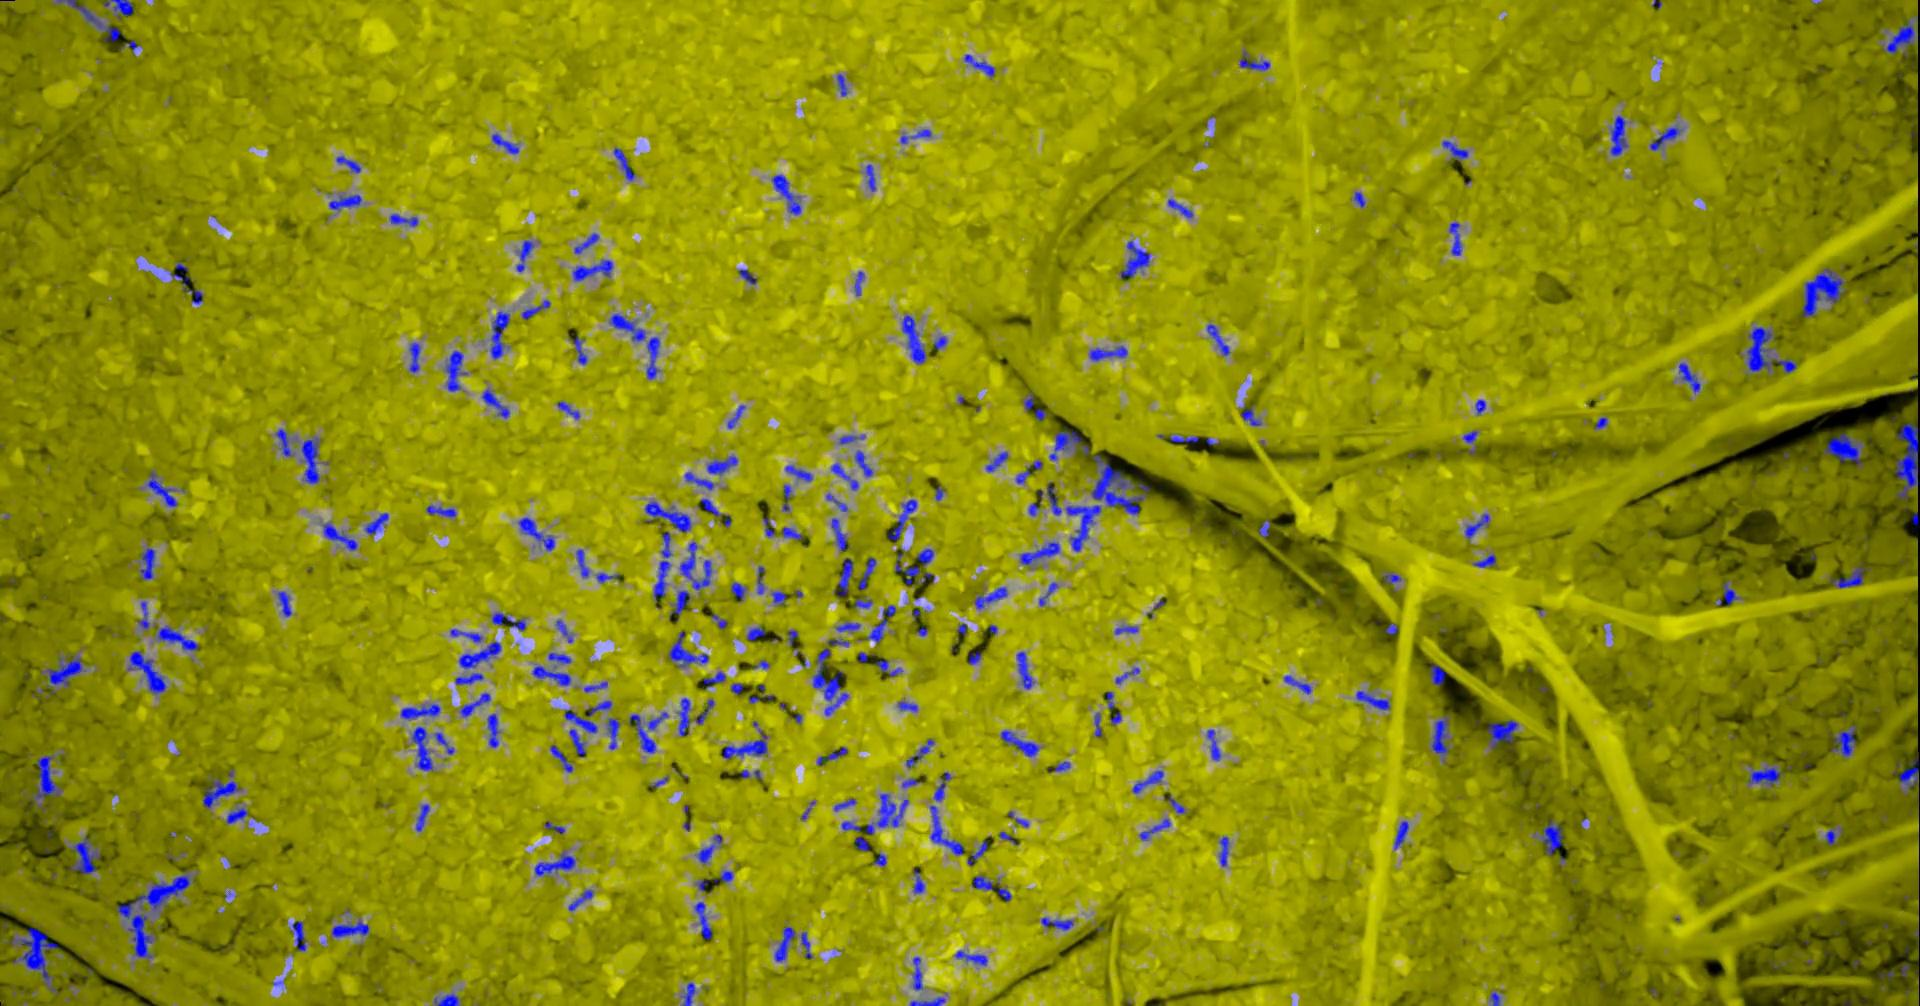ant: (8, 926, 57, 993), (811, 638, 848, 715), (841, 793, 908, 835), (57, 0, 119, 41), (1746, 326, 1796, 372), (1801, 268, 1844, 318), (127, 650, 166, 694), (1065, 504, 1100, 551), (930, 805, 963, 854), (894, 547, 935, 586), (679, 541, 711, 589), (202, 768, 241, 807), (564, 700, 611, 732), (644, 500, 690, 532), (668, 631, 709, 667), (169, 260, 202, 304), (1049, 426, 1088, 460), (721, 729, 767, 758), (1823, 433, 1862, 467), (46, 654, 83, 688), (653, 531, 670, 601), (32, 754, 58, 800), (69, 835, 99, 874), (518, 517, 554, 550), (1882, 20, 1914, 57), (902, 315, 926, 363), (865, 605, 895, 643), (771, 174, 800, 213), (1120, 240, 1149, 279), (888, 499, 916, 540), (458, 641, 500, 668), (156, 625, 198, 650), (1898, 757, 1919, 809), (629, 714, 655, 753), (146, 471, 177, 506), (1029, 484, 1062, 514), (971, 875, 1011, 901), (610, 312, 645, 340), (1829, 563, 1869, 587), (1001, 730, 1037, 756), (1018, 541, 1059, 564), (1487, 719, 1517, 749), (535, 852, 575, 875), (490, 311, 509, 359), (323, 523, 357, 550), (700, 498, 731, 526), (444, 351, 466, 391), (411, 727, 432, 770), (905, 738, 935, 767), (301, 436, 319, 483), (1431, 713, 1449, 760), (571, 259, 612, 279), (481, 387, 509, 417), (1542, 819, 1564, 854), (696, 833, 723, 862), (1650, 124, 1680, 150), (1831, 725, 1857, 756), (830, 464, 858, 490), (460, 692, 490, 716), (532, 666, 570, 685), (1131, 770, 1163, 793), (775, 926, 795, 962), (974, 587, 1007, 608), (1206, 324, 1229, 354), (1677, 362, 1700, 392), (1355, 690, 1390, 709), (613, 147, 634, 180), (964, 55, 994, 76), (1139, 818, 1170, 840), (834, 558, 852, 594), (331, 920, 368, 937), (1747, 767, 1782, 786), (1610, 116, 1627, 155), (1464, 513, 1490, 539), (1015, 460, 1043, 483), (549, 744, 571, 772), (830, 518, 850, 551), (695, 901, 711, 939), (1016, 652, 1032, 688), (400, 702, 439, 718), (669, 589, 690, 619), (491, 612, 524, 630), (706, 455, 737, 474), (817, 746, 847, 765), (521, 298, 549, 319), (103, 0, 132, 19), (1239, 51, 1269, 70), (1716, 580, 1738, 605), (858, 556, 875, 589), (516, 240, 533, 271), (646, 337, 659, 379), (1090, 345, 1128, 359), (276, 428, 295, 456), (1283, 674, 1310, 694), (1443, 140, 1467, 161), (364, 512, 389, 533), (491, 133, 518, 152), (328, 194, 361, 210), (954, 950, 987, 965), (574, 232, 598, 253), (568, 889, 592, 909), (1167, 198, 1192, 217), (138, 547, 154, 579), (677, 697, 690, 735), (968, 840, 987, 865), (855, 450, 872, 476), (568, 728, 585, 754), (434, 732, 455, 754), (783, 465, 811, 481), (684, 473, 712, 489), (874, 659, 902, 676), (933, 772, 950, 800), (695, 699, 712, 724), (450, 627, 481, 641), (1239, 404, 1260, 426), (985, 451, 1007, 471), (1037, 582, 1057, 605), (486, 713, 499, 747), (900, 130, 931, 144), (1206, 729, 1220, 760), (291, 920, 305, 950), (335, 155, 361, 171), (1449, 222, 1462, 255), (728, 405, 745, 428), (702, 671, 725, 688), (606, 718, 618, 749), (1040, 917, 1072, 930), (1115, 667, 1139, 683), (571, 337, 585, 365), (415, 803, 429, 831), (1394, 821, 1408, 848), (408, 342, 420, 372), (825, 493, 847, 511), (225, 807, 248, 823), (648, 711, 668, 729), (1166, 793, 1183, 813), (557, 401, 579, 418), (1429, 663, 1445, 685), (389, 213, 417, 226), (277, 591, 291, 616), (556, 619, 571, 641), (912, 956, 922, 989), (425, 506, 455, 517), (1218, 836, 1229, 865), (577, 549, 588, 577), (455, 672, 483, 683), (800, 931, 811, 958), (909, 996, 943, 1005), (738, 268, 756, 285), (917, 547, 933, 565), (913, 868, 924, 893), (682, 982, 695, 1005), (433, 993, 458, 1005), (138, 601, 149, 629), (836, 72, 847, 97), (583, 681, 607, 692), (1473, 554, 1495, 567), (549, 652, 570, 664), (865, 164, 875, 191), (730, 582, 745, 600), (745, 626, 764, 640), (596, 572, 618, 583), (781, 526, 801, 539), (834, 798, 855, 810), (543, 821, 564, 833), (836, 621, 860, 631), (712, 870, 731, 883), (782, 484, 791, 511), (710, 614, 726, 627), (1168, 434, 1197, 442), (1048, 761, 1069, 771), (763, 517, 775, 536), (855, 271, 863, 295), (839, 434, 863, 443), (757, 567, 764, 594), (771, 591, 786, 605), (855, 836, 869, 851), (1352, 191, 1365, 207), (897, 701, 917, 711), (1114, 625, 1137, 634), (933, 335, 946, 351), (1258, 520, 1270, 536), (1383, 573, 1399, 584), (1825, 827, 1835, 845), (1034, 406, 1046, 420), (1023, 391, 1032, 410), (855, 598, 871, 608), (968, 650, 980, 663), (1594, 417, 1608, 428), (1462, 431, 1476, 442), (1095, 713, 1101, 737), (1476, 399, 1484, 414), (1385, 622, 1397, 634), (1911, 512, 1919, 528), (1490, 991, 1498, 1005), (730, 683, 742, 694)
